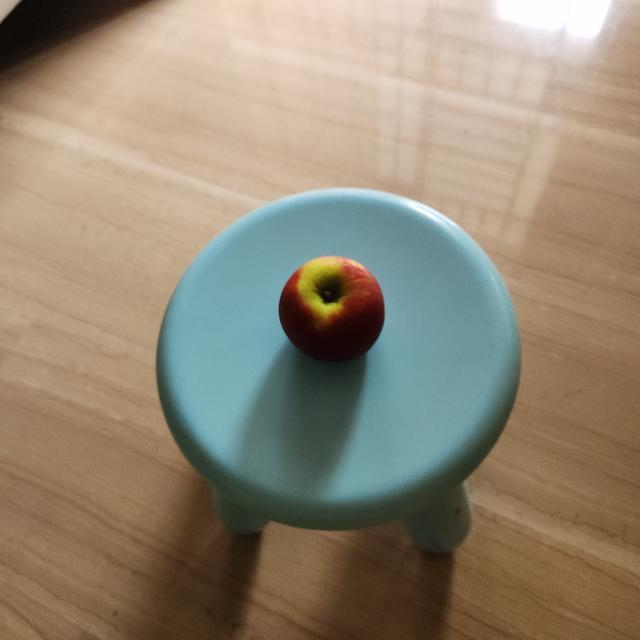apple: (274, 254, 388, 370)
